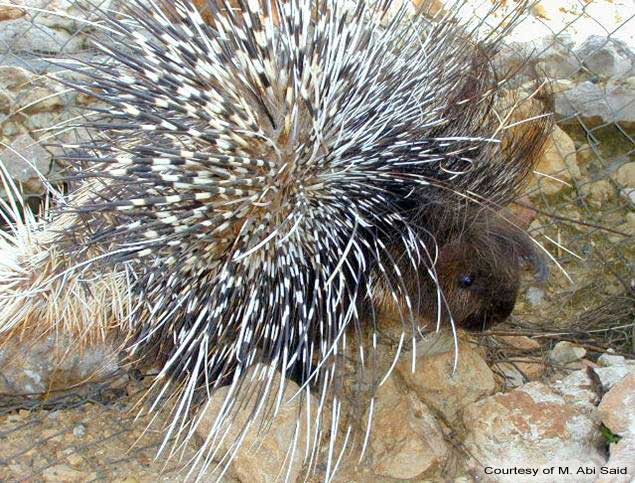porcupine: (11, 16, 569, 411)
